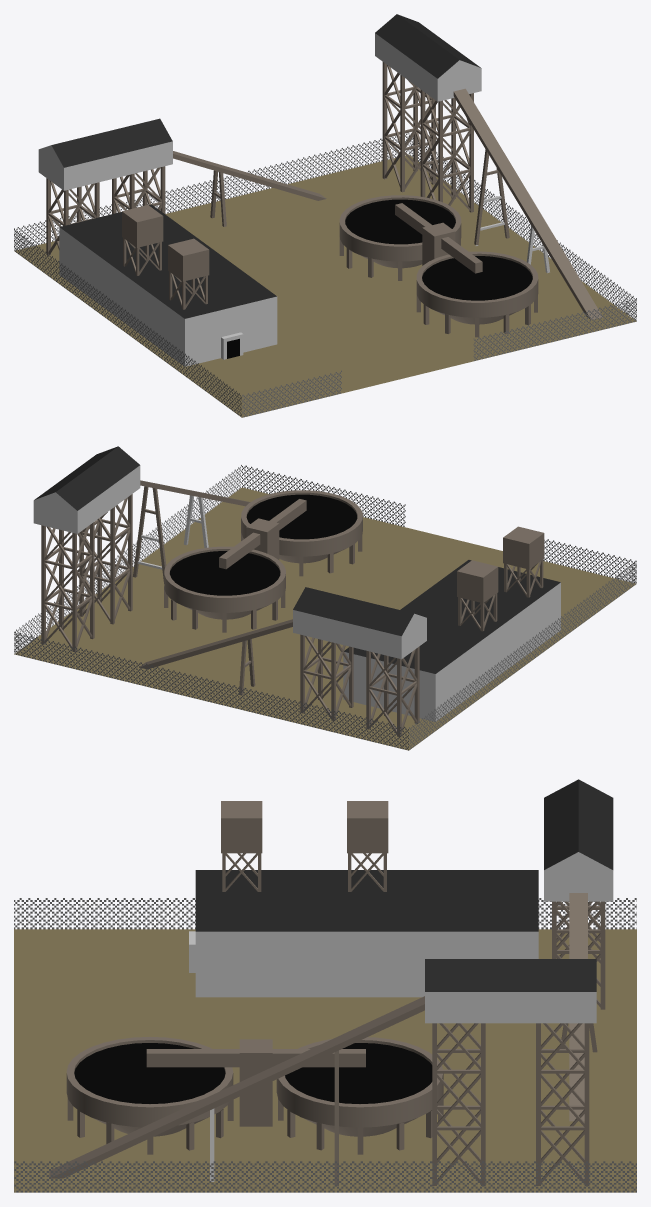
Rendered from IronMine.fbx.
3 views of the same model, one above another, from view 1: azimuth 30°, elevation 25°; view 2: azimuth 150°, elevation 25°; view 3: azimuth 270°, elevation 25° (orthographic). The views are drawn at different scales.
Visible parts, largest first — view 1: IronMine; view 2: IronMine; view 3: IronMine.
Boxes of the visible parts, x1,y1,x2,y2 form: IronMine: (14,14,636,417); IronMine: (14,446,636,750); IronMine: (14,779,636,1192).
Bounding box in the file's own units: 1800 × 718 × 1800.
